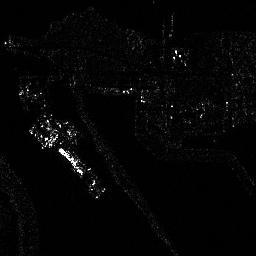ship: (57, 146, 83, 176)
